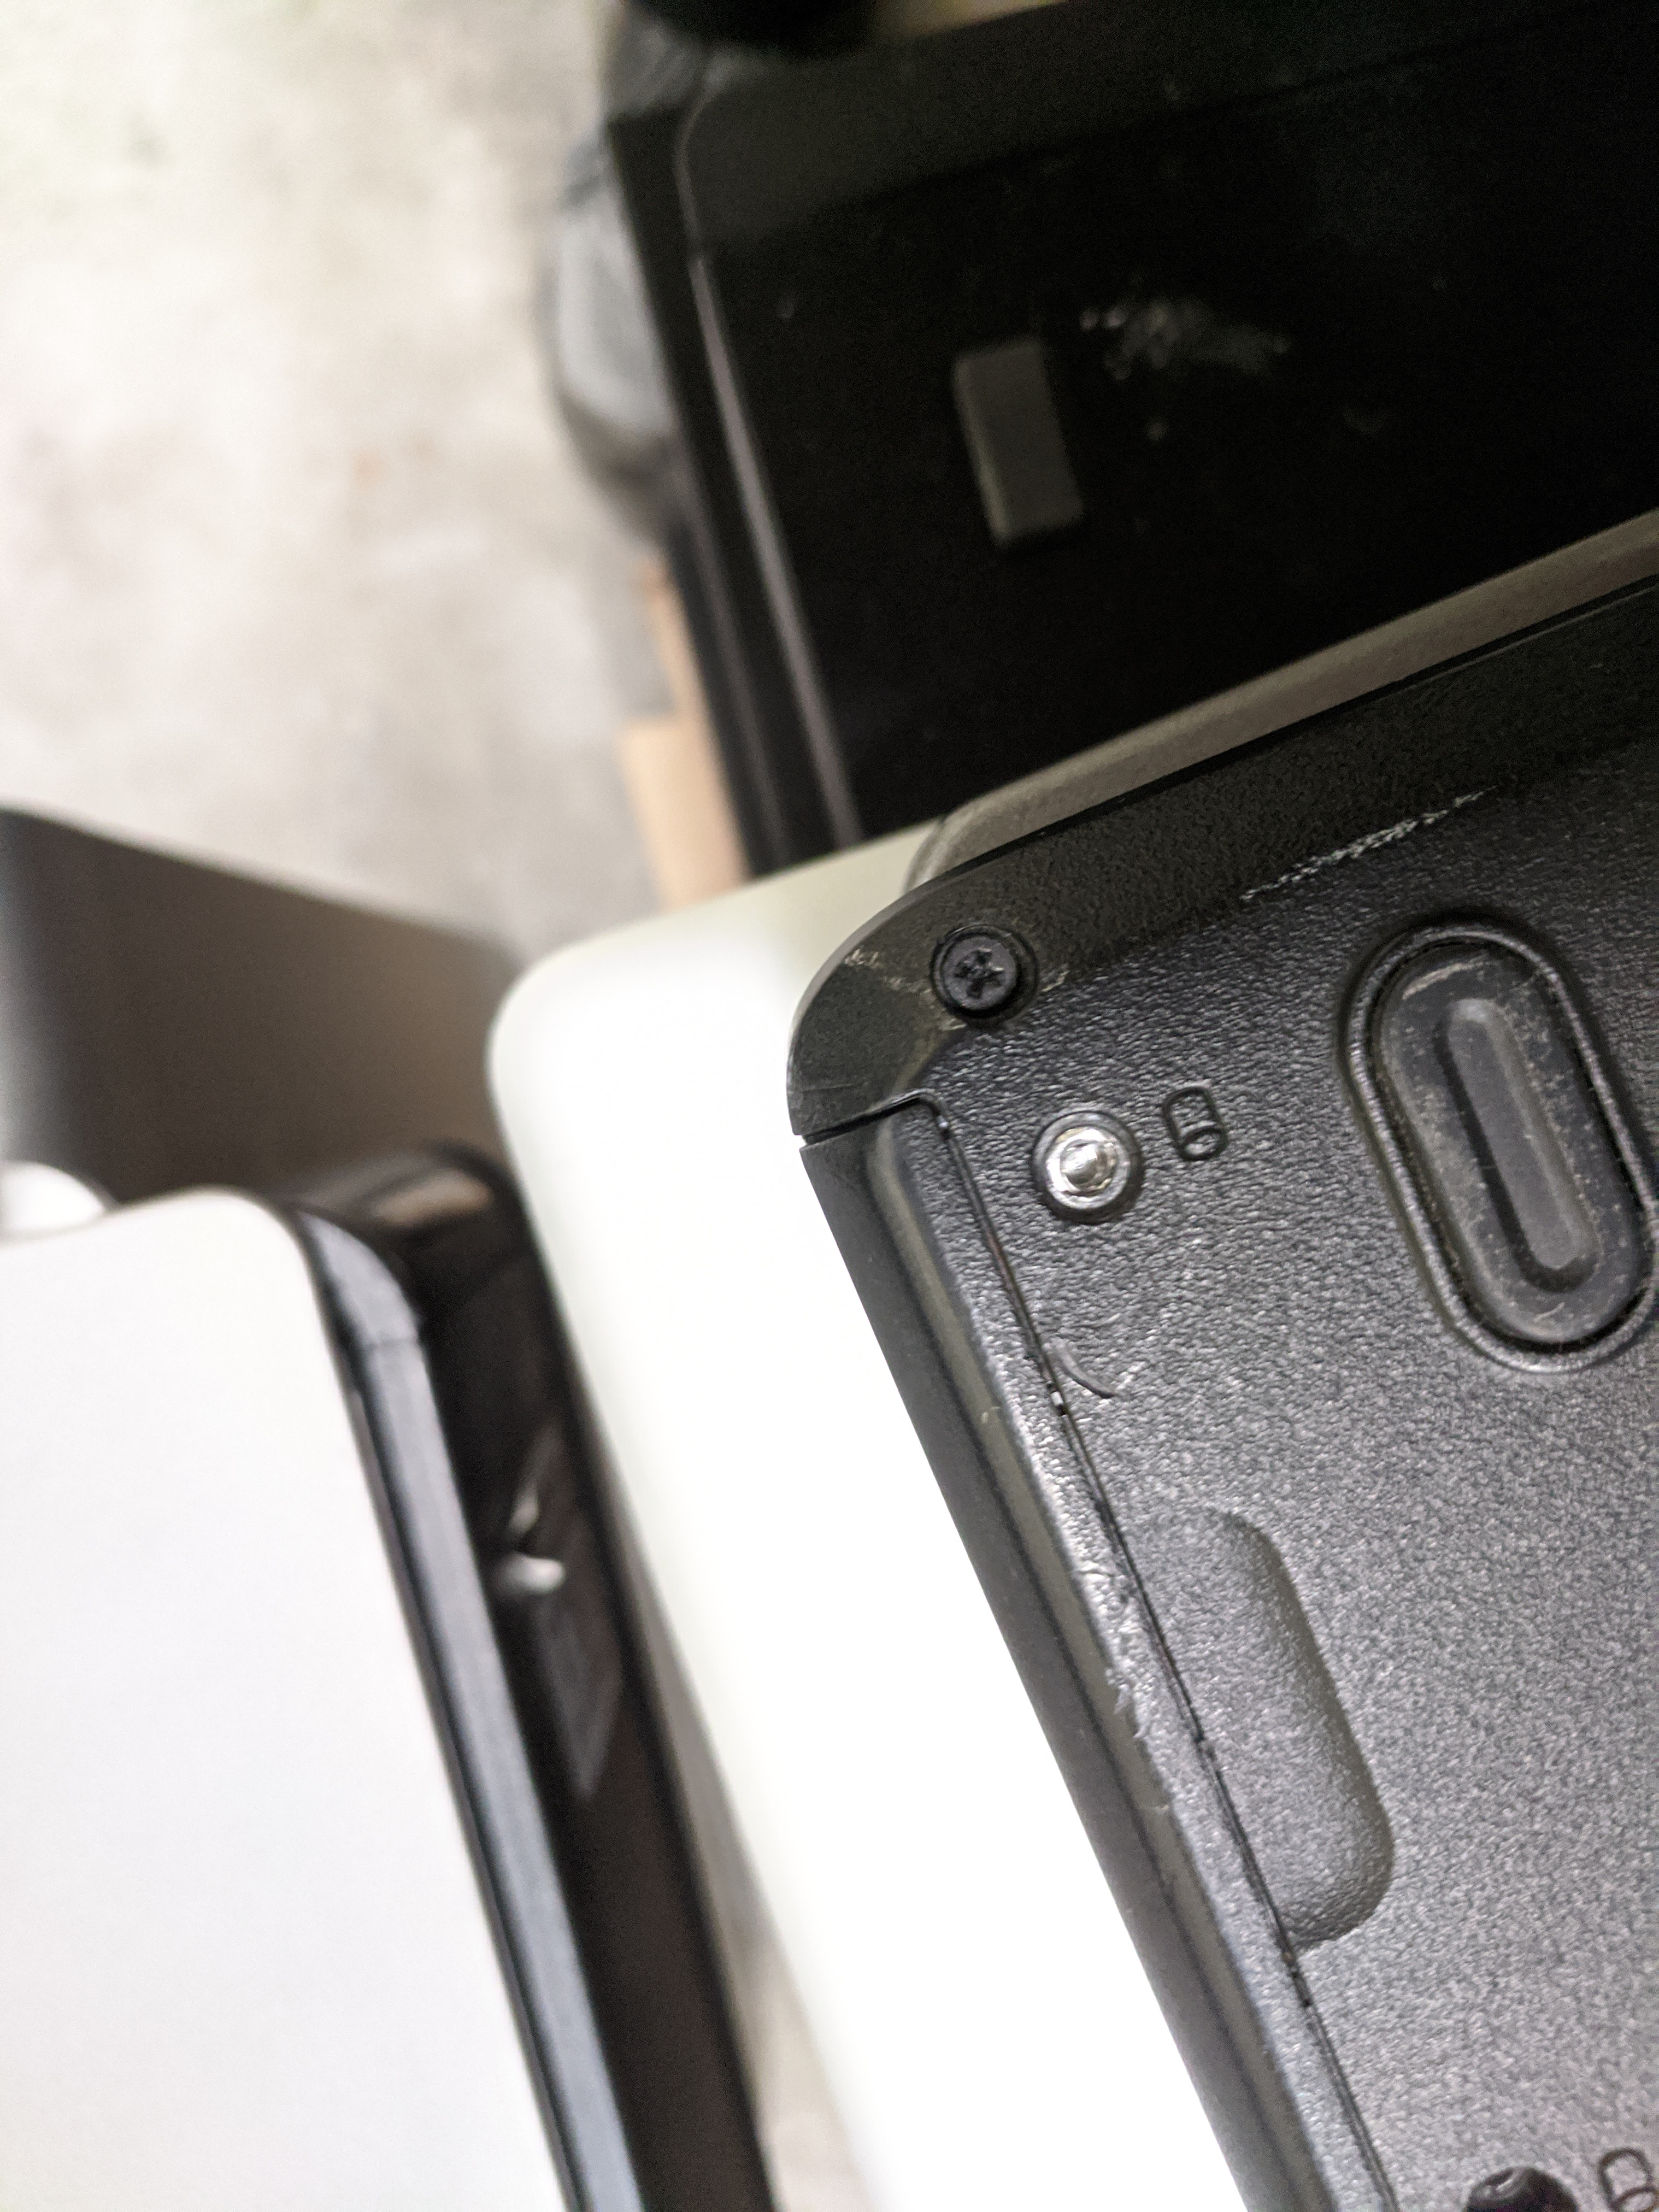cross_recessed_screw: (925, 920, 1049, 1022)
